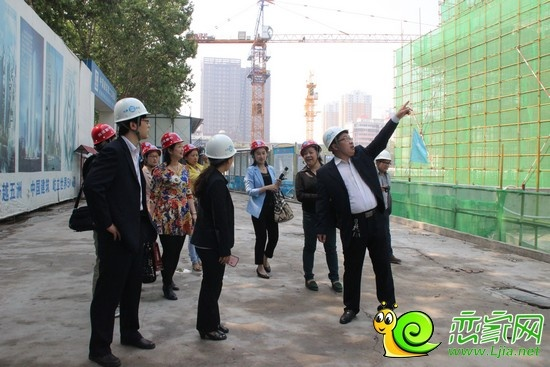red: (89, 123, 117, 151), (159, 132, 184, 160), (300, 139, 320, 168), (248, 139, 271, 164), (138, 141, 159, 167), (182, 142, 199, 164)
white: (112, 95, 151, 140), (204, 133, 236, 168), (323, 126, 355, 157), (375, 148, 392, 171)
